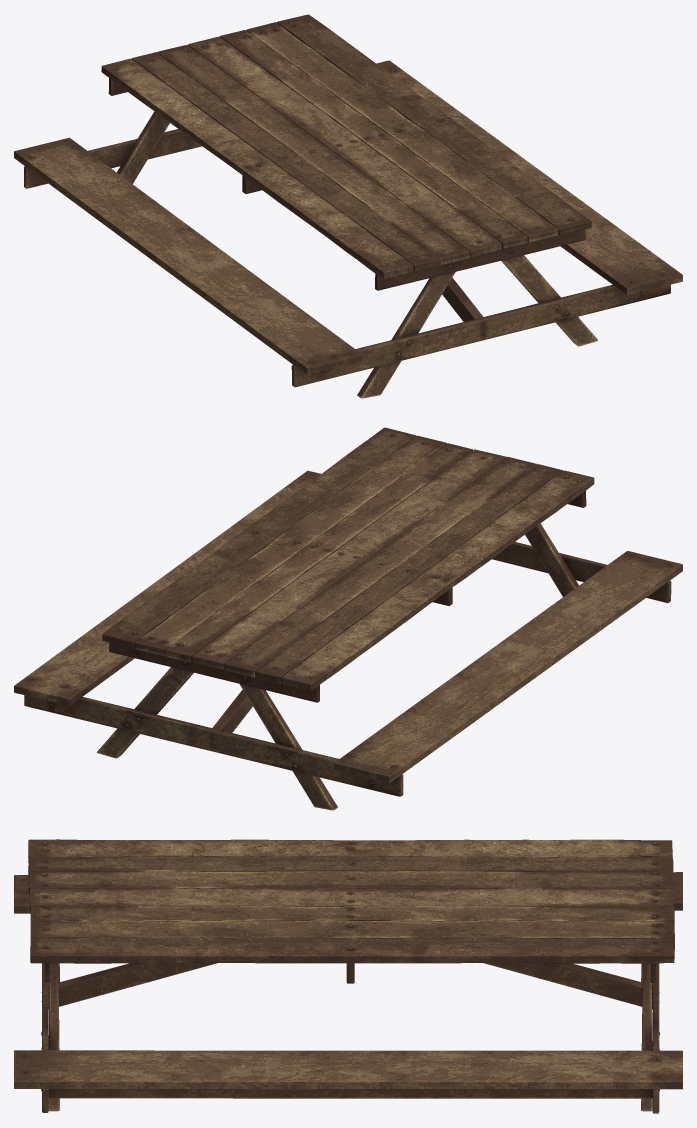
Rendered from wooden_picnic_table.glb.
3 renders of one model, top to bottom at view 1: azimuth 30°, elevation 25°; view 2: azimuth 150°, elevation 25°; view 3: azimuth 270°, elevation 25°, orthographic. The views are drawn at different scales.
Visible parts, largest first — view 1: body; view 2: body; view 3: body.
Part boxes in pixels (x1,y1,x2,y2): body: [14, 14, 682, 398]; body: [14, 427, 682, 810]; body: [14, 839, 682, 1113].
Size of the model in its own units: 2.24 by 0.746 by 3.02.
1 material, 1 textured.
